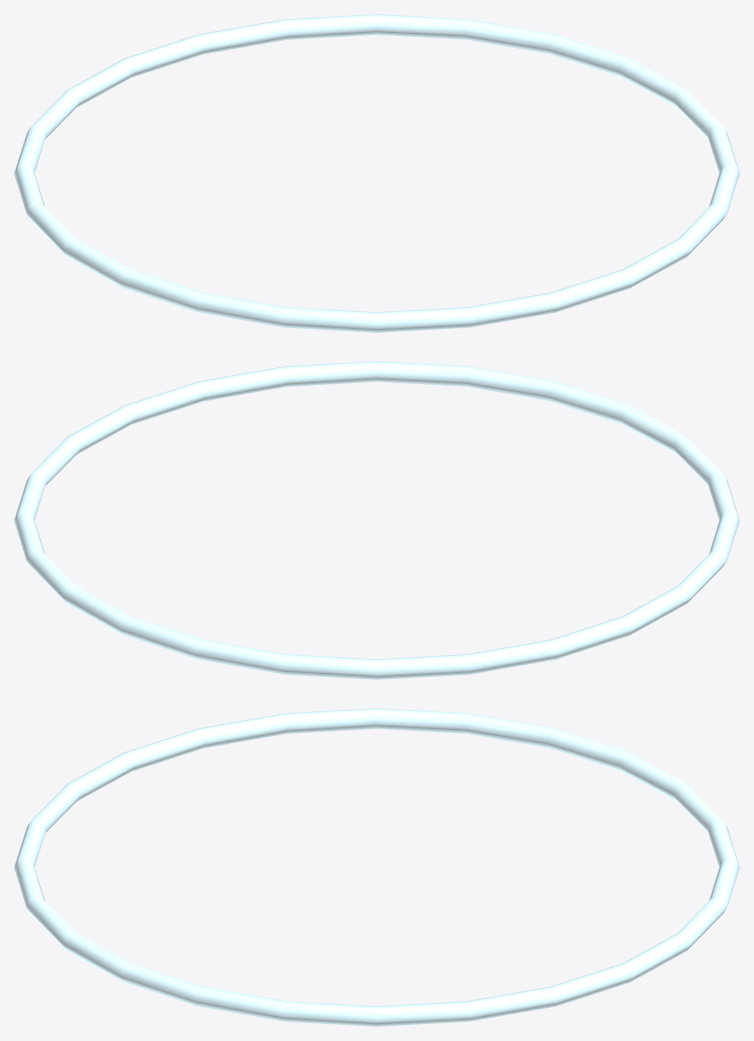
File: ville_statue_anneau_b.glb
3 renders of one model, top to bottom at view 1: azimuth 30°, elevation 25°; view 2: azimuth 150°, elevation 25°; view 3: azimuth 270°, elevation 25°, orthographic.
Parts seen in each view (by area): view 1: statue_anneau_b; view 2: statue_anneau_b; view 3: statue_anneau_b.
Part boxes in pixels (box(x1,y1,x2,y2)): statue_anneau_b: box(14, 14, 739, 332); statue_anneau_b: box(14, 361, 739, 679); statue_anneau_b: box(14, 708, 739, 1026).
Bounding box in the file's own units: 1.75 × 0.0433 × 1.75.
